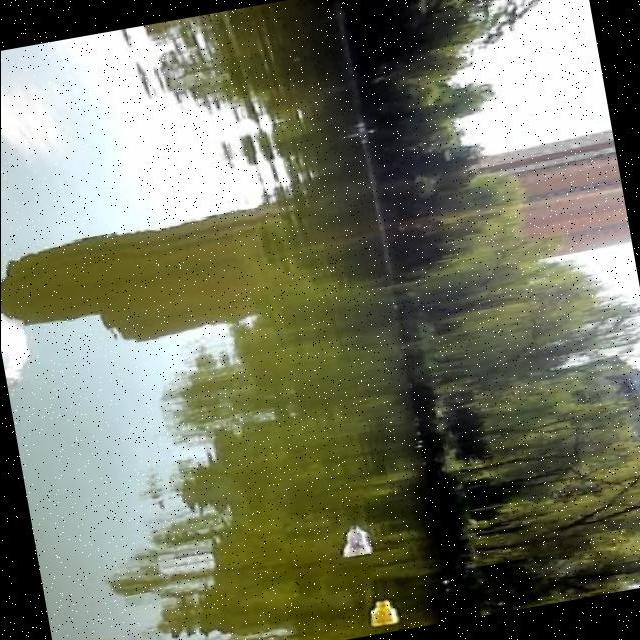Bottle: (370, 589, 400, 630)
Waste: (332, 518, 378, 562)
